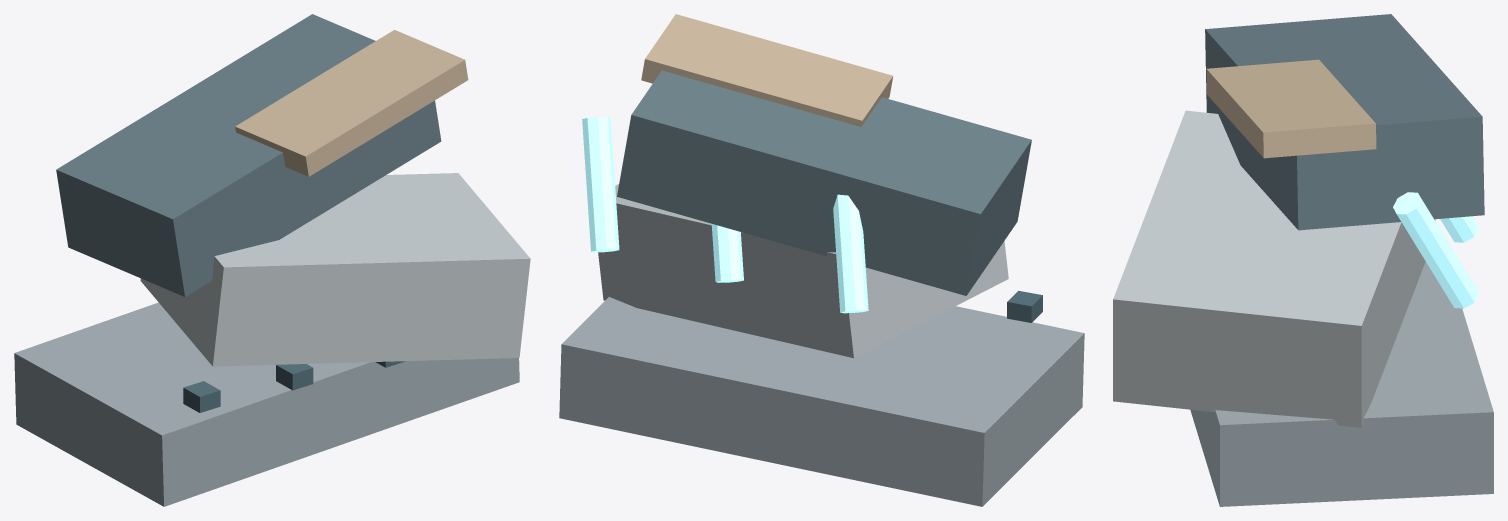
The model's file is alloy_mid.gltf.
3 renders of one model, left to right at view 1: azimuth 30°, elevation 25°; view 2: azimuth 150°, elevation 25°; view 3: azimuth 270°, elevation 25°, orthographic. The views are drawn at different scales.
Parts seen in each view (by area): view 1: alloy_mid; view 2: alloy_mid; view 3: alloy_mid.
Boxes of the visible parts, x1,y1,x2,y2 form: alloy_mid: (14, 14, 530, 506); alloy_mid: (559, 14, 1084, 506); alloy_mid: (1113, 14, 1493, 506).
Bounding box in the file's own units: 1.2 × 0.9159 × 0.8556.
